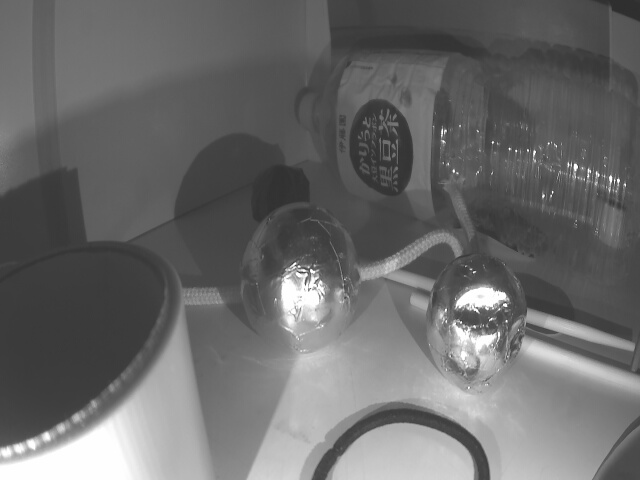Dead: (249, 162, 312, 221)
Live: (234, 205, 361, 352), (428, 254, 526, 391)
